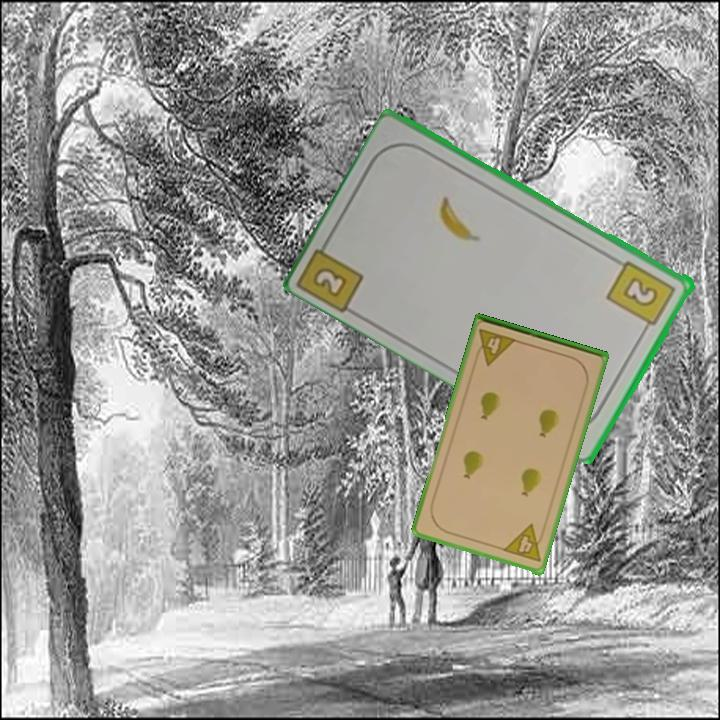2b: (604, 256, 679, 335), (309, 263, 351, 300)
4p: (499, 521, 548, 565), (471, 325, 519, 368)
